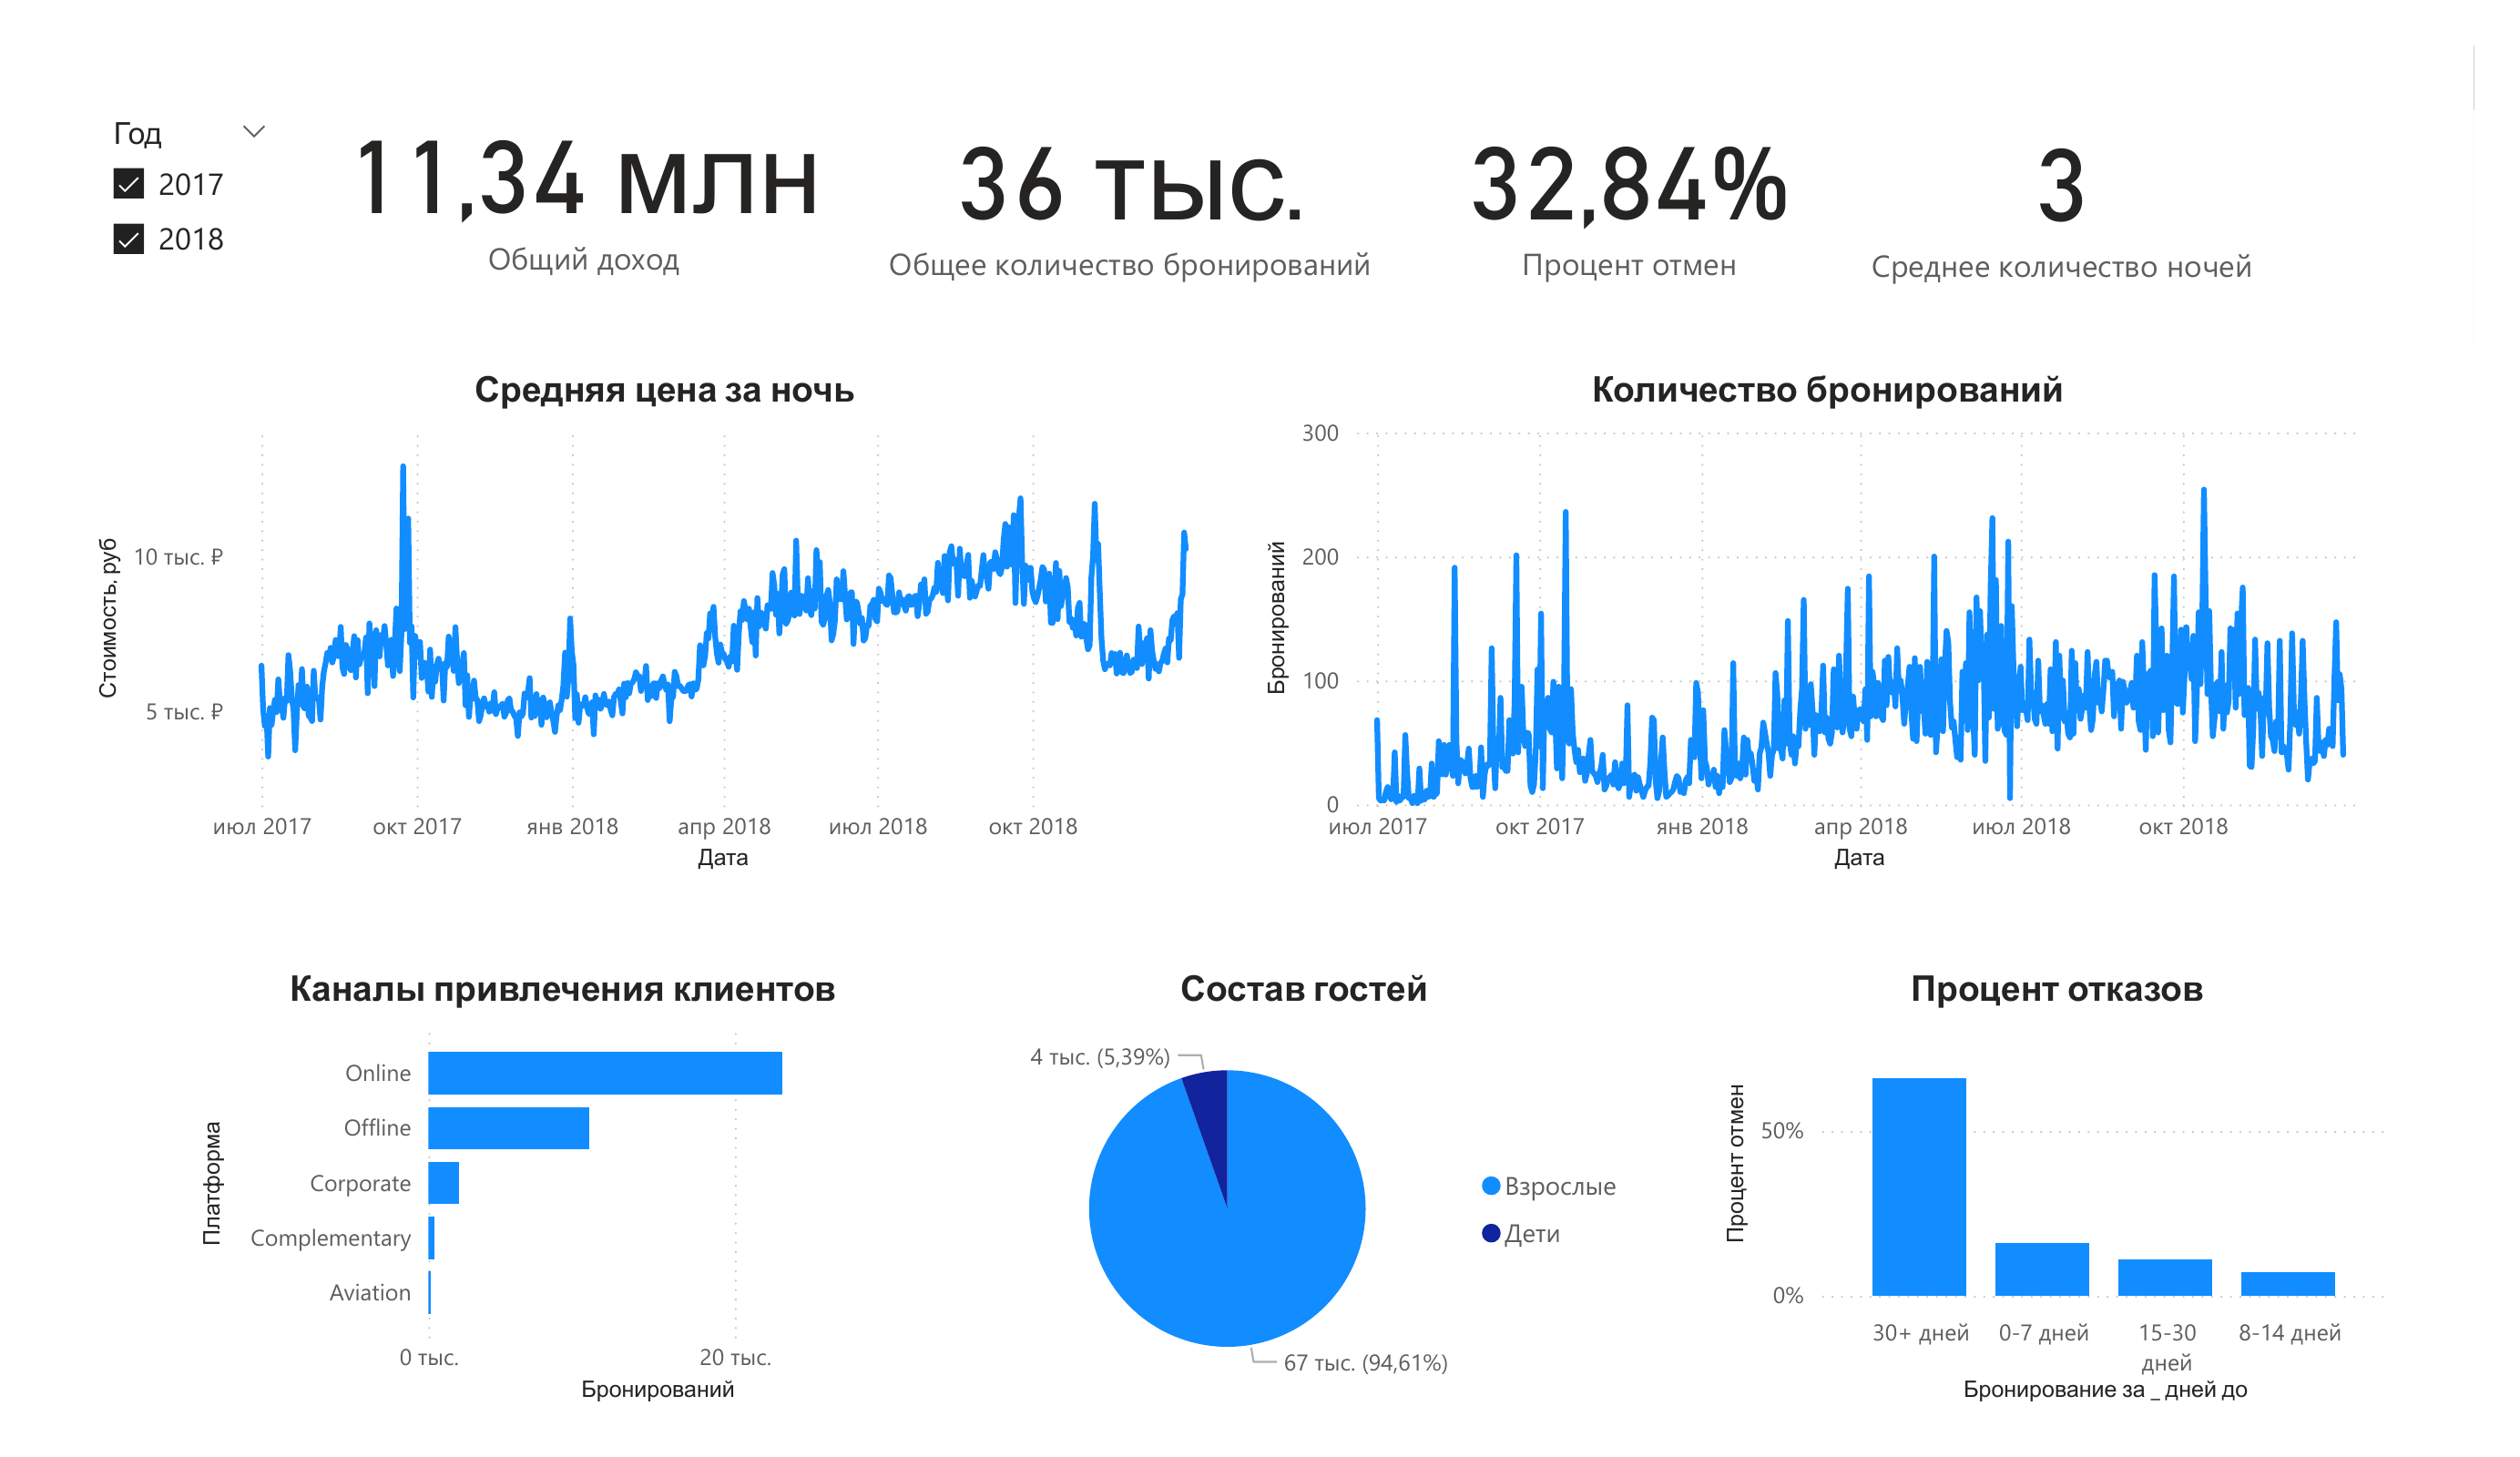

The dashboard page shown, as its layout file describes it:
{"tool":"powerbi","page":{"name":"Страница 1","canvas":[1280,720],"ordinal":0},"visuals":[{"type":"card","fields":{"Values":["Меры.Общий доход"]},"box":[149.2,6.1,270.2,134.5],"z":0},{"type":"slicer","fields":{"Values":["Hotel.Год"]},"box":[23.1,32.5,105.7,98.8],"z":1000},{"type":"lineChart","title":"Средняя цена за ночь","fields":{"Category":["Hotel.Date"],"Y":["Avg(Hotel.Цена)"]},"box":[23.2,171.2,606.5,269],"z":2000},{"type":"lineChart","title":"Количество бронирований","fields":{"Category":["Hotel.Date"],"Y":["Меры.Общее количество бронирований"]},"box":[639.2,171.1,601,269],"z":3000},{"type":"card","fields":{"Values":["Меры.Общее количество бронирований"]},"box":[419.4,19.6,305.7,113.7],"z":4000},{"type":"card","fields":{"Values":["Меры.Отмен"]},"box":[731.3,20.8,207.9,111.3],"z":5000},{"type":"barChart","title":"Каналы привлечения клиентов","fields":{"Y":["Меры.Общее количество бронирований"],"Category":["Hotel.market_segment"]},"box":[78.3,486.7,390.1,233.6],"z":6000},{"type":"pieChart","title":"Состав гостей","fields":{"Y":["Sum(Hotel.n_adults)","Sum(Hotel.n_children)"]},"box":[485.5,486.7,356.8,233.3],"z":7000},{"type":"card","fields":{"Values":["Меры.Среднее количество ночей"]},"box":[939.1,23.2,248.2,108.8],"z":8000},{"type":"columnChart","title":"Процент отказов","fields":{"Y":["CountNonNull(Hotel.status)"],"Category":["Hotel.Дней до"]},"box":[880.7,486.7,359.5,233.3],"z":9000}]}

Visuals, with their boxes in screenshot pixels (x1, y1, x2, y2):
card - Меры.Общий доход: [left=329, top=57, right=842, bottom=312]
slicer - Hotel.Год: [left=89, top=107, right=290, bottom=295]
"Средняя цена за ночь" lineChart: [left=89, top=371, right=1240, bottom=881]
"Количество бронирований" lineChart: [left=1259, top=370, right=2399, bottom=881]
card - Меры.Общее количество бронирований: [left=842, top=83, right=1422, bottom=299]
card - Меры.Отмен: [left=1433, top=85, right=1828, bottom=296]
"Каналы привлечения клиентов" barChart: [left=194, top=969, right=934, bottom=1411]
"Состав гостей" pieChart: [left=967, top=969, right=1644, bottom=1411]
card - Меры.Среднее количество ночей: [left=1828, top=89, right=2299, bottom=296]
"Процент отказов" columnChart: [left=1717, top=969, right=2399, bottom=1411]
